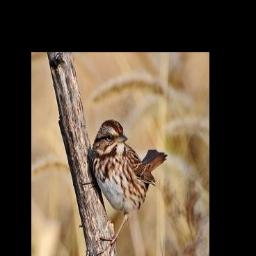Sparrow: (89, 118, 169, 256)
